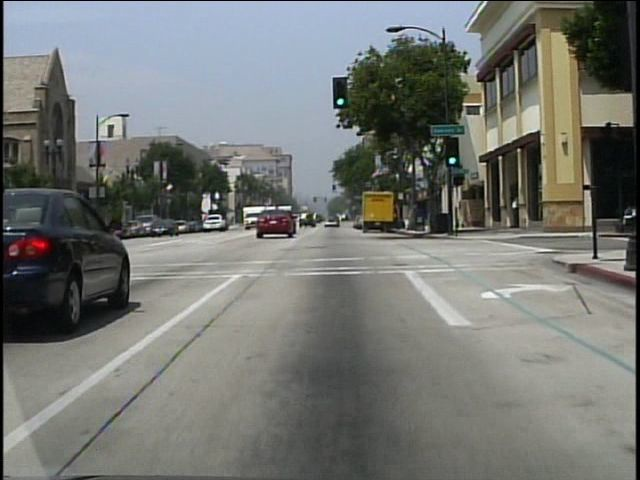person: (510, 195, 518, 229)
